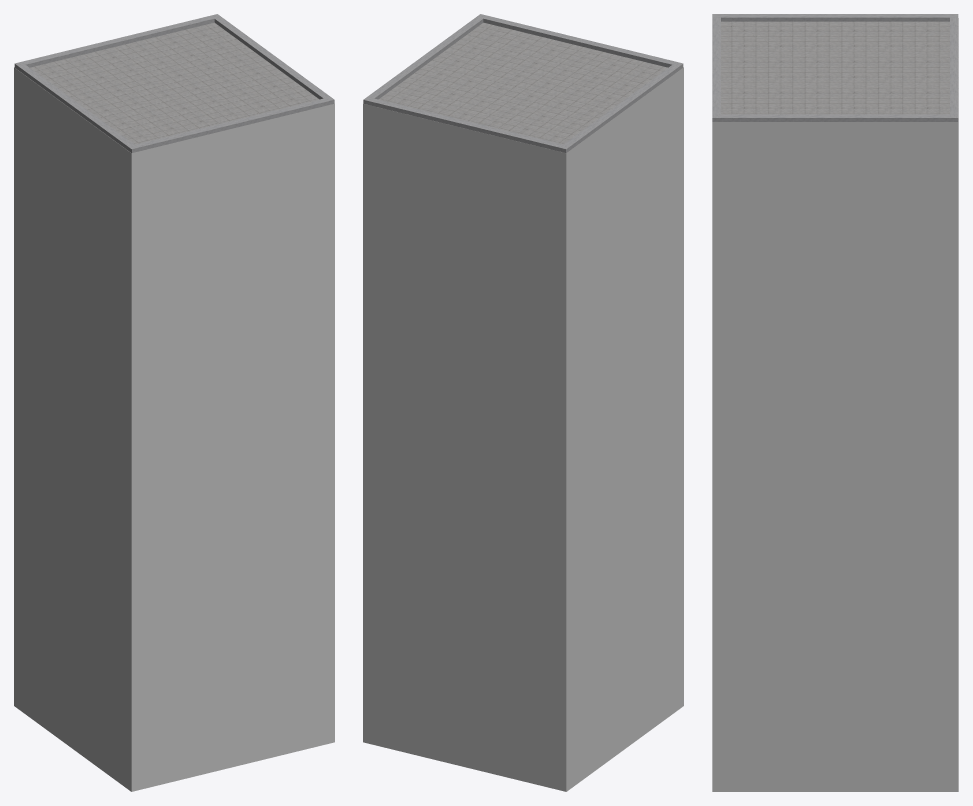
The model's file is SkyScaper1.fbx.
3 renders of one model, left to right at view 1: azimuth 30°, elevation 25°; view 2: azimuth 150°, elevation 25°; view 3: azimuth 270°, elevation 25°, orthographic. The views are drawn at different scales.
Parts seen in each view (by area): view 1: Cube, Cube.001, Cube.004, Cube.002, Cube.003; view 2: Cube, Cube.004, Cube.001, Cube.002, Cube.003; view 3: Cube, Cube.002, Cube.003, Cube.001, Cube.004.
Part boxes in pixels (box(x1,y1,x2,y2)): Cube: box(14, 22, 334, 791); Cube.001: box(131, 97, 334, 152); Cube.004: box(21, 14, 220, 67); Cube.002: box(14, 62, 138, 152); Cube.003: box(214, 15, 332, 99); Cube: box(363, 22, 683, 791); Cube.004: box(363, 97, 566, 152); Cube.001: box(477, 14, 676, 67); Cube.002: box(559, 62, 683, 152); Cube.003: box(365, 14, 483, 99); Cube: box(712, 18, 958, 791); Cube.002: box(712, 14, 958, 21); Cube.003: box(712, 114, 958, 121); Cube.001: box(712, 14, 720, 121); Cube.004: box(950, 17, 958, 117).
Bounding box in the file's own units: 1393 × 4205 × 1393.
